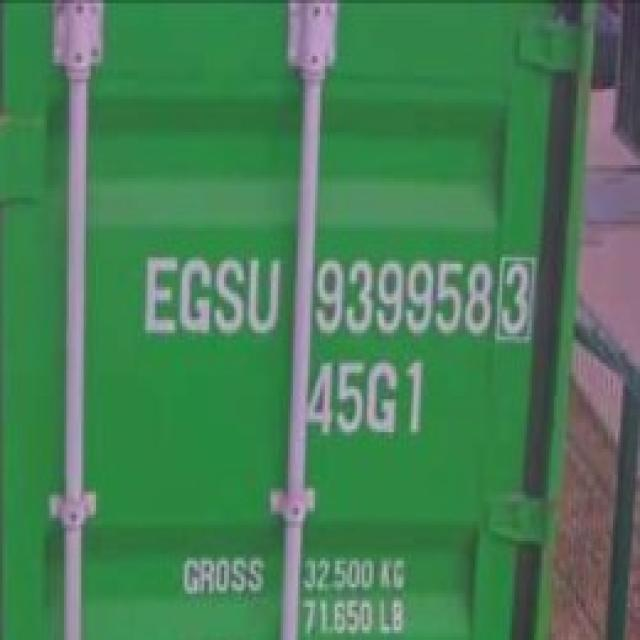dv: (496, 245, 540, 347)
owner: (136, 244, 284, 345)
serial: (312, 245, 492, 342)
size: (303, 352, 429, 439)
